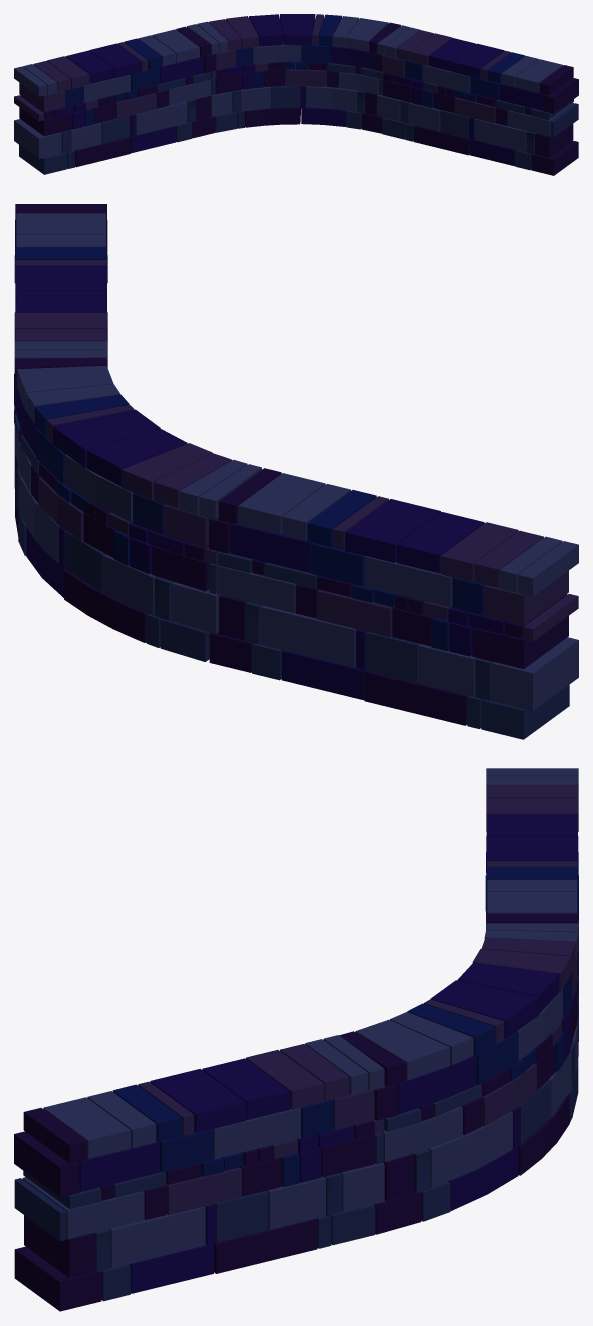
Rendered from WallBlue3.fbx.
3 views of the same model, one above another, from view 1: azimuth 30°, elevation 25°; view 2: azimuth 150°, elevation 25°; view 3: azimuth 270°, elevation 25° (orthographic). The views are drawn at different scales.
Visible parts, largest first — view 1: WallBlue3; view 2: WallBlue3; view 3: WallBlue3.
Part boxes in pixels (x1,y1,x2,y2): WallBlue3: (14, 14, 578, 175); WallBlue3: (14, 204, 578, 739); WallBlue3: (14, 768, 578, 1311).
Size of the model in its own units: 49.16 by 9.9 by 30.92.
1 material, 1 textured.
